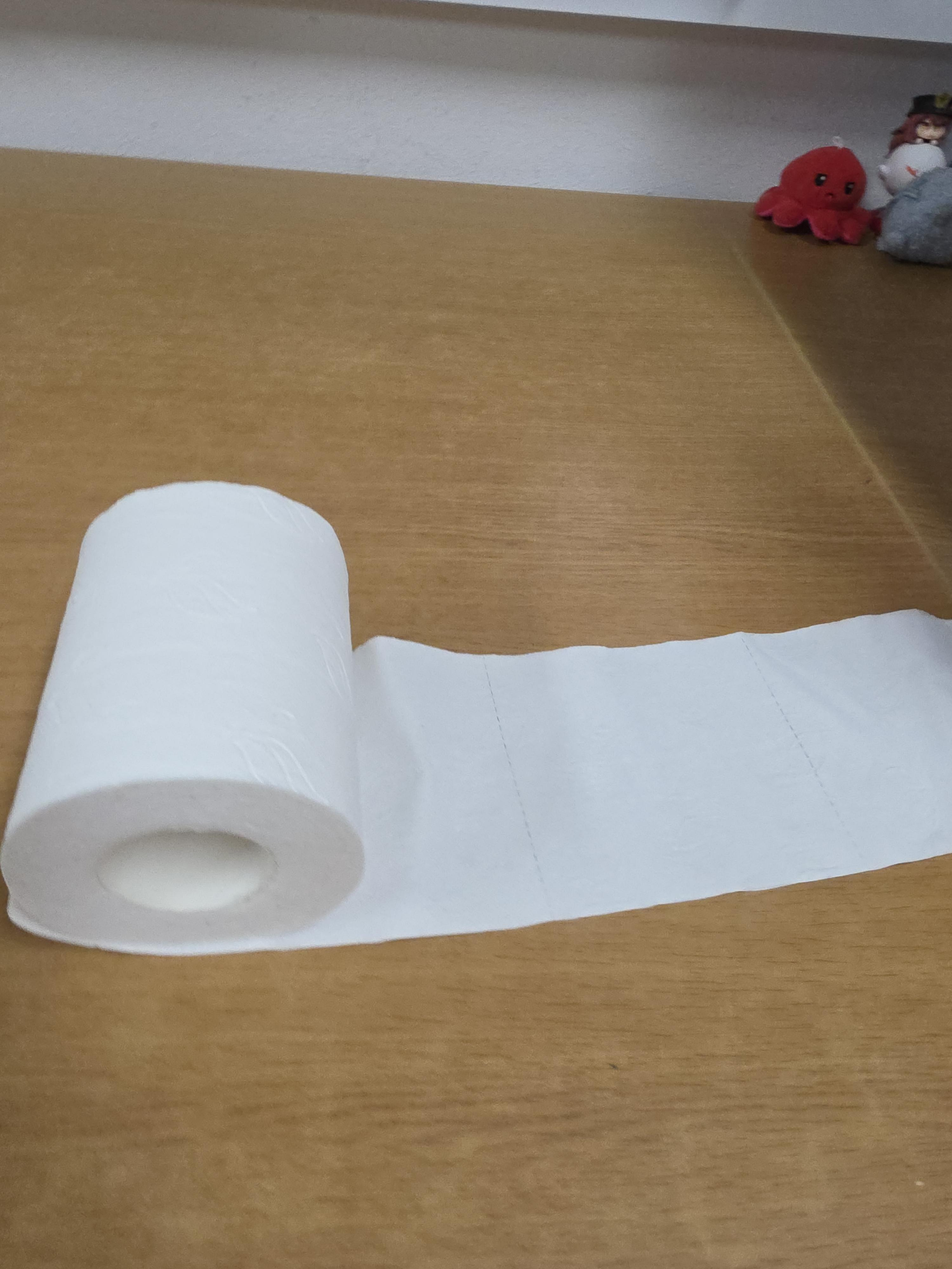tissue: (0, 481, 951, 956)
